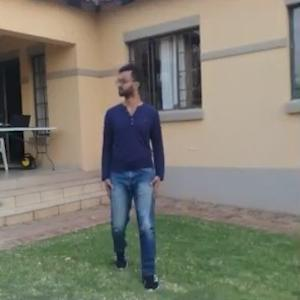follow: (97, 57, 169, 298)
